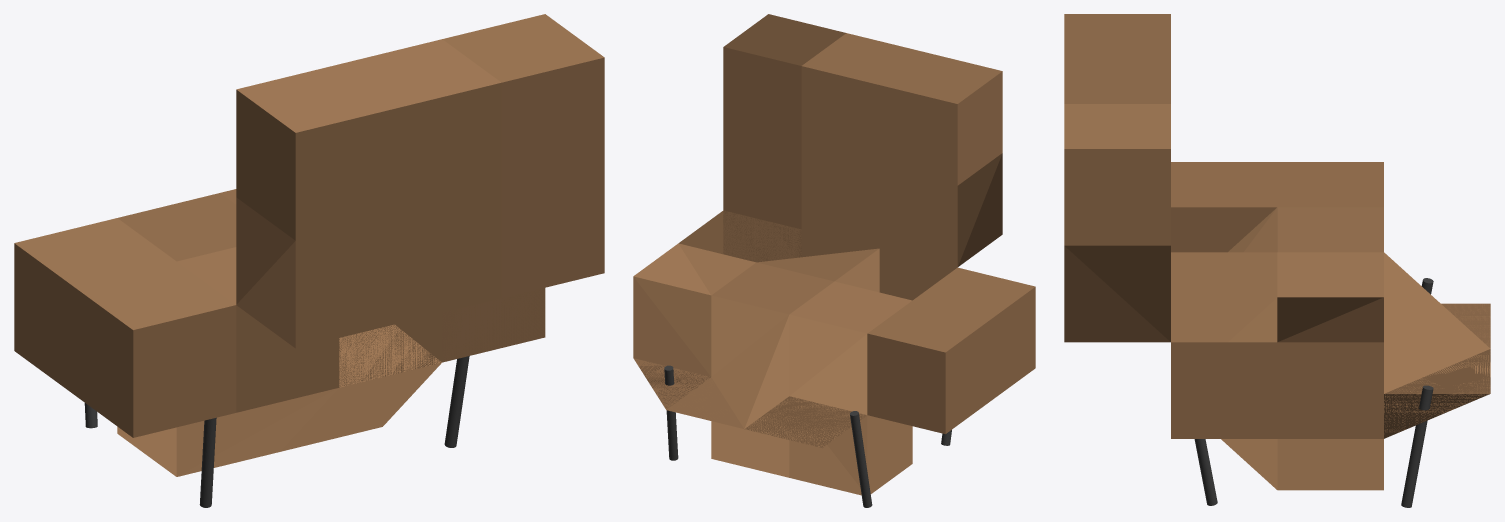
The picture shows the model from 3 angles, left to right: view 1: azimuth 30°, elevation 25°; view 2: azimuth 150°, elevation 25°; view 3: azimuth 270°, elevation 25°; orthographic projection. The views are drawn at different scales.
Visible parts, largest first — view 1: object 5, Back_Right_Leg, Back_Left_Leg; view 2: object 5, Front_Left_Leg, Front_Right_Leg; view 3: object 5, Front_Right_Leg, Back_Right_Leg.
Boxes of the visible parts, box(x1,y1,x2,y2) form: object 5: box(14, 14, 604, 476); Back_Right_Leg: box(444, 356, 469, 447); Back_Left_Leg: box(199, 417, 216, 507); object 5: box(633, 14, 1035, 495); Front_Left_Leg: box(850, 411, 872, 507); Front_Right_Leg: box(664, 365, 678, 460); object 5: box(1064, 14, 1490, 490); Front_Right_Leg: box(1401, 385, 1433, 507); Back_Right_Leg: box(1194, 439, 1217, 505).
Size of the model in its own units: 1.97 by 1.97 by 1.97.
